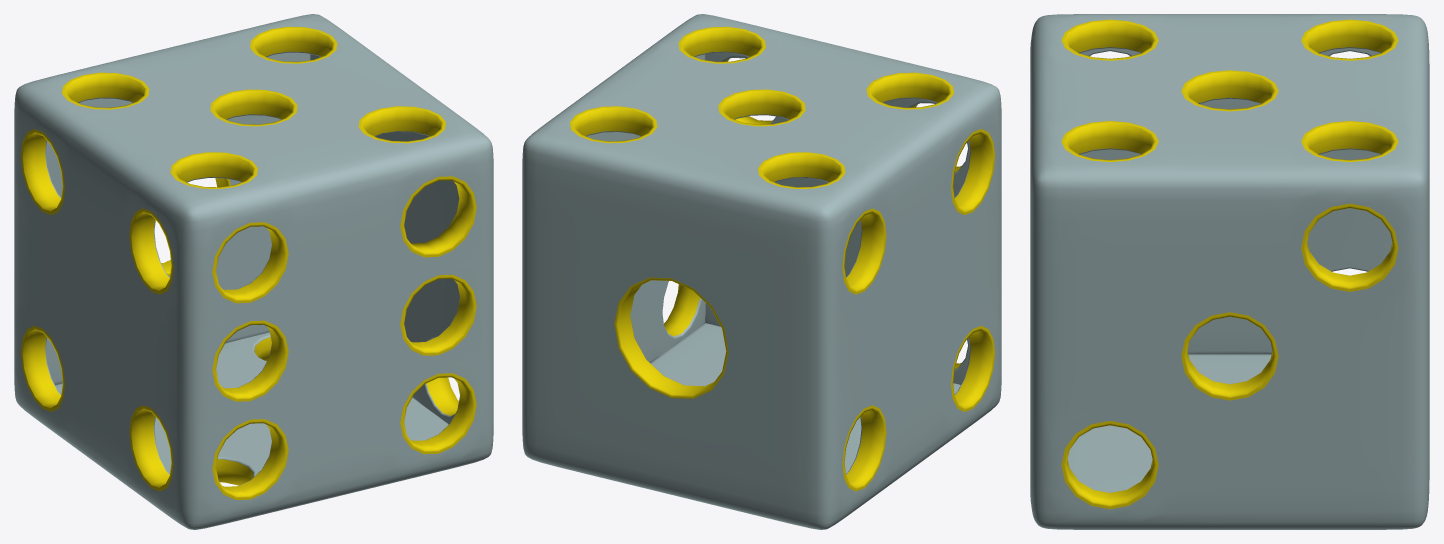
The model's file is Dice.fbx.
3 views of the same model, side by side, from view 1: azimuth 30°, elevation 25°; view 2: azimuth 150°, elevation 25°; view 3: azimuth 270°, elevation 25° (orthographic). The views are drawn at different scales.
Visible parts, largest first — view 1: Dice; view 2: Dice; view 3: Dice.
Boxes of the visible parts, x1=… form: Dice: x1=14, y1=14, x2=493, y2=529; Dice: x1=522, y1=14, x2=1001, y2=529; Dice: x1=1030, y1=14, x2=1429, y2=529.
Bounding box in the file's own units: 2 × 2 × 2.
